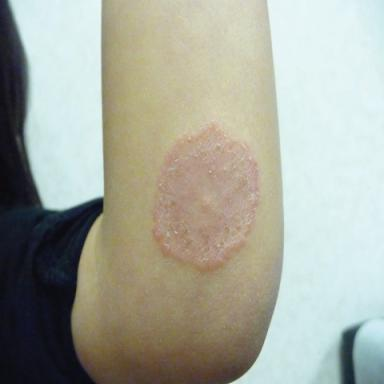Tinea-Corporis: (153, 122, 259, 270)
